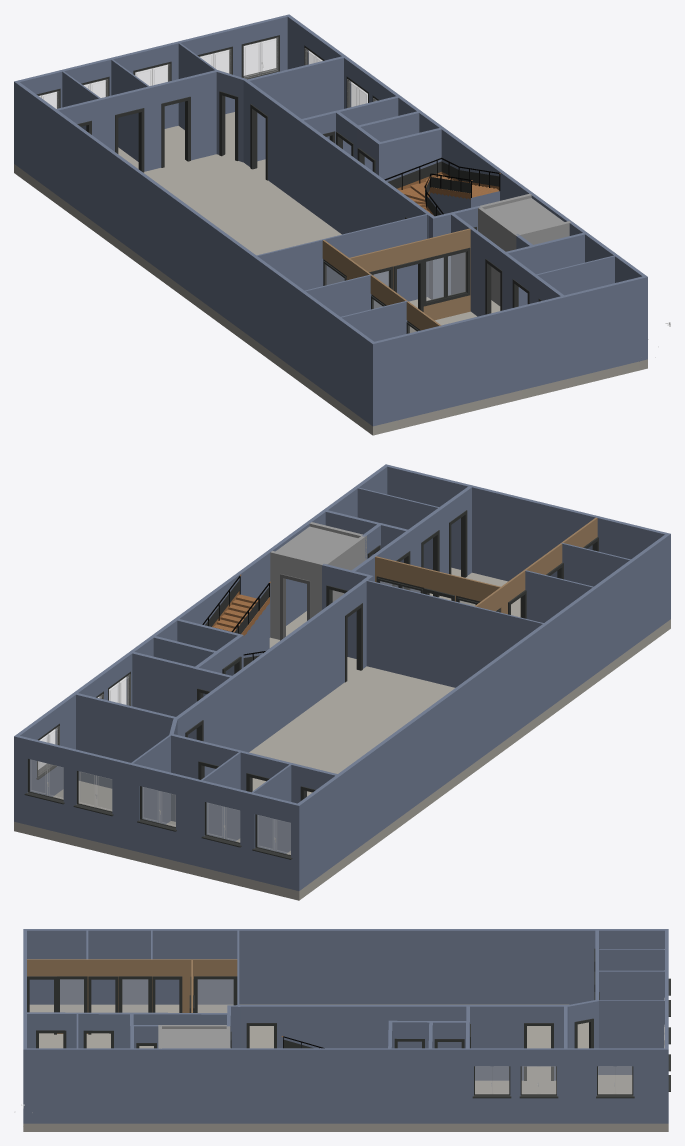
Rendered from Floor4.gltf.
The picture shows the model from 3 angles, top to bottom: view 1: azimuth 30°, elevation 25°; view 2: azimuth 150°, elevation 25°; view 3: azimuth 270°, elevation 25°; orthographic projection. The views are drawn at different scales.
Parts seen in each view (by area): view 1: Wall, Wall.025, Slab, Wall.003, Wall.011, Wall.001, Wall.002, Wall.007, Stair, Wall.009, Wall.023, Wall.015 (+16 smaller); view 2: Wall, Slab, Wall.025, Wall.003, Wall.002, Wall.011, Wall.026, Wall.001, Wall.009, Wall.007, Stair, Wall.023 (+11 smaller); view 3: Wall, Wall.025, Slab, Wall.001, Wall.005, Wall.011, Wall.015, Wall.006, Slab.001, Window Panel.023, Window Panel.021, Wall.007 (+18 smaller).
Part boxes in pixels (left/top/right/bottom): Wall: left=14, top=14, right=647, bottom=426; Wall.025: left=56, top=70, right=430, bottom=296; Slab: left=14, top=112, right=647, bottom=435; Wall.003: left=256, top=214, right=427, bottom=308; Wall.011: left=347, top=228, right=470, bottom=330; Wall.001: left=451, top=213, right=565, bottom=316; Wall.002: left=246, top=56, right=344, bottom=161; Wall.007: left=356, top=111, right=441, bottom=181; Stair: left=384, top=157, right=500, bottom=216; Wall.009: left=478, top=193, right=570, bottom=305; Wall.023: left=536, top=255, right=616, bottom=295; Wall.015: left=111, top=59, right=151, bottom=170; Wall: left=14, top=464, right=670, bottom=890; Slab: left=14, top=567, right=670, bottom=900; Wall.025: left=169, top=579, right=367, bottom=821; Wall.003: left=366, top=580, right=544, bottom=687; Wall.002: left=75, top=693, right=176, bottom=788; Wall.011: left=375, top=517, right=597, bottom=614; Wall.026: left=132, top=651, right=219, bottom=738; Wall.001: left=351, top=485, right=473, bottom=592; Wall.009: left=270, top=522, right=366, bottom=639; Wall.007: left=152, top=619, right=243, bottom=696; Stair: left=202, top=574, right=270, bottom=666; Wall.023: left=357, top=487, right=438, bottom=569; Wall: left=23, top=929, right=668, bottom=1123; Wall.025: left=236, top=930, right=598, bottom=1080; Slab: left=23, top=1004, right=668, bottom=1131; Wall.001: left=23, top=1012, right=227, bottom=1048; Wall.005: left=599, top=1000, right=664, bottom=1074; Wall.011: left=27, top=959, right=192, bottom=1033; Wall.015: left=599, top=970, right=664, bottom=1000; Wall.006: left=595, top=949, right=664, bottom=970; Slab.001: left=162, top=1029, right=226, bottom=1048; Window Panel.023: left=197, top=979, right=234, bottom=1012; Window Panel.021: left=121, top=979, right=149, bottom=1012; Wall.007: left=388, top=1020, right=432, bottom=1048.
Size of the model in its own units: 10.21 by 3 by 21.73.
Materials: 12 (1 with a texture image).
